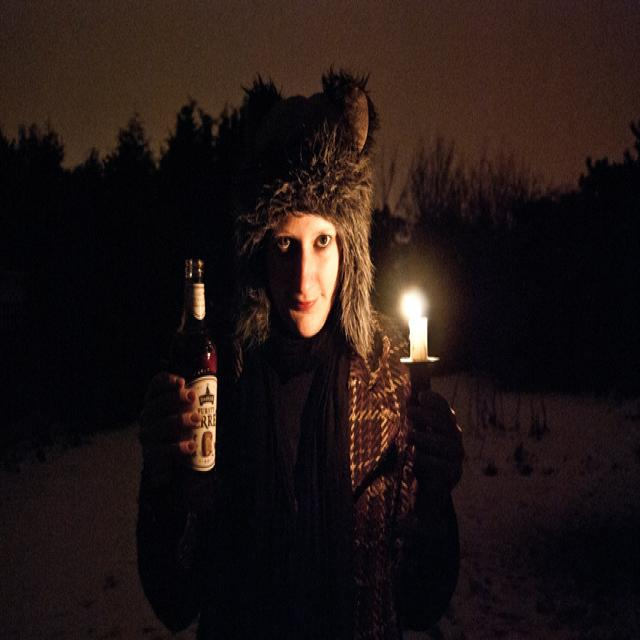Bottle: (166, 259, 224, 479)
People: (113, 64, 463, 640)
